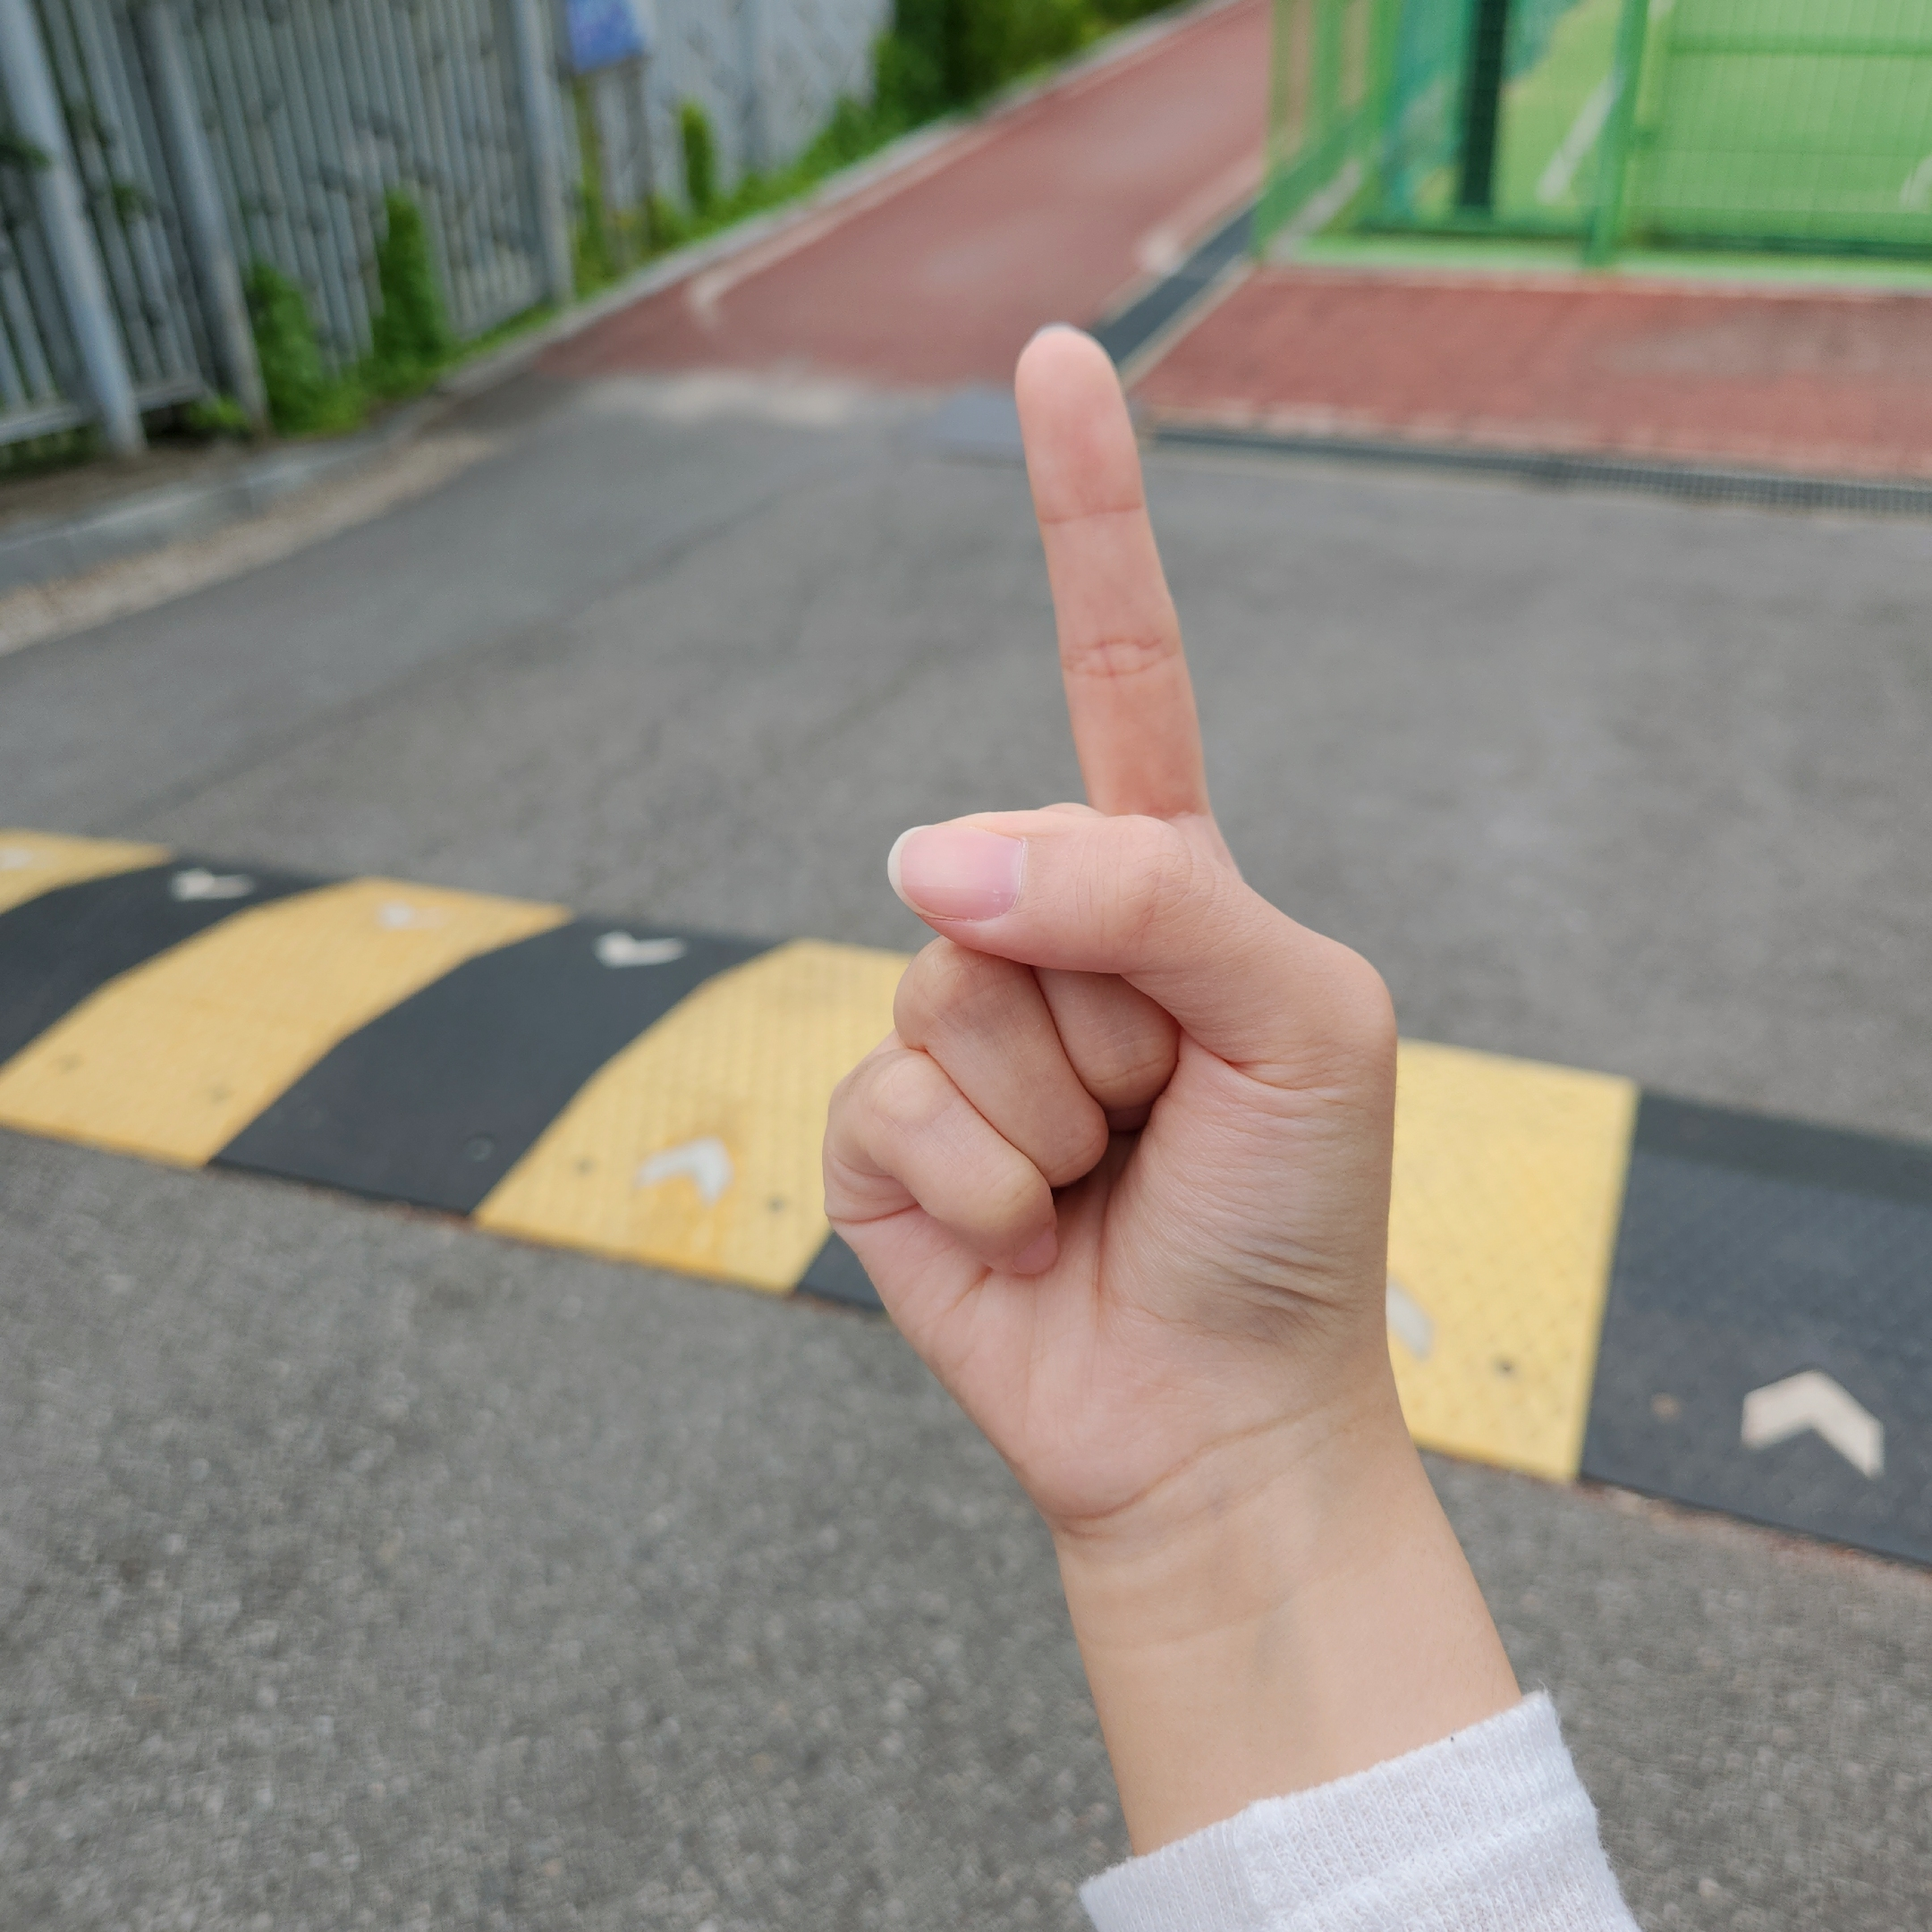what: (819, 326, 1405, 1495)
